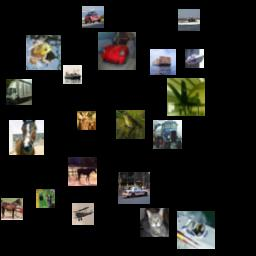airplane: (167, 78, 205, 116), (72, 203, 94, 225)
automobile: (98, 32, 136, 70), (118, 172, 150, 204), (82, 6, 104, 28)
cat: (140, 208, 169, 237)
deer: (36, 189, 55, 208), (77, 111, 96, 130)
frog: (26, 35, 61, 70), (116, 110, 145, 139)
ship: (177, 211, 215, 249), (150, 49, 176, 75), (178, 9, 200, 31), (185, 49, 204, 68), (63, 65, 82, 84)
truck: (153, 120, 182, 149), (6, 79, 32, 105)
